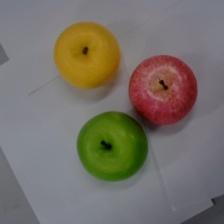green: (77, 111, 148, 182)
red: (129, 55, 197, 124)
yellow: (54, 22, 120, 88)
